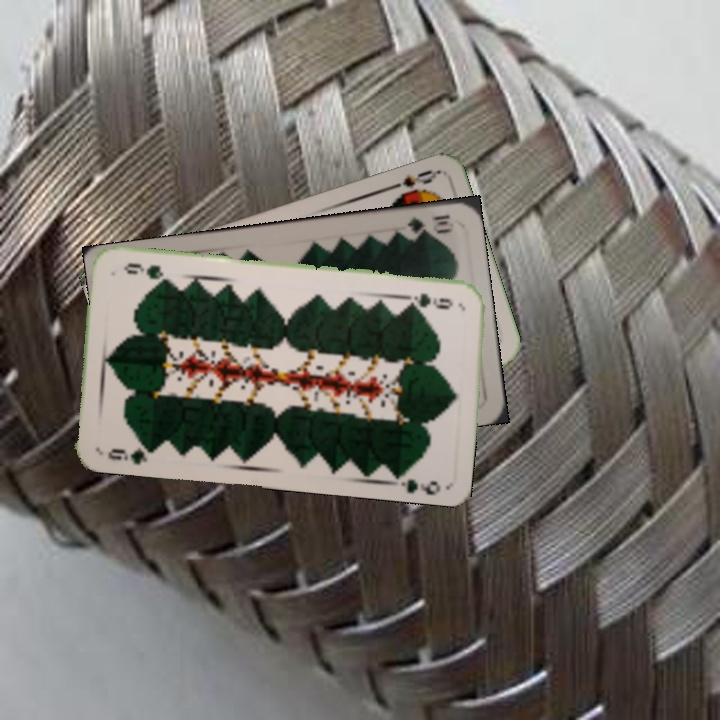G10: (403, 210, 454, 238)
G9: (103, 441, 157, 468), (403, 289, 456, 311)
SO: (381, 166, 439, 198)
